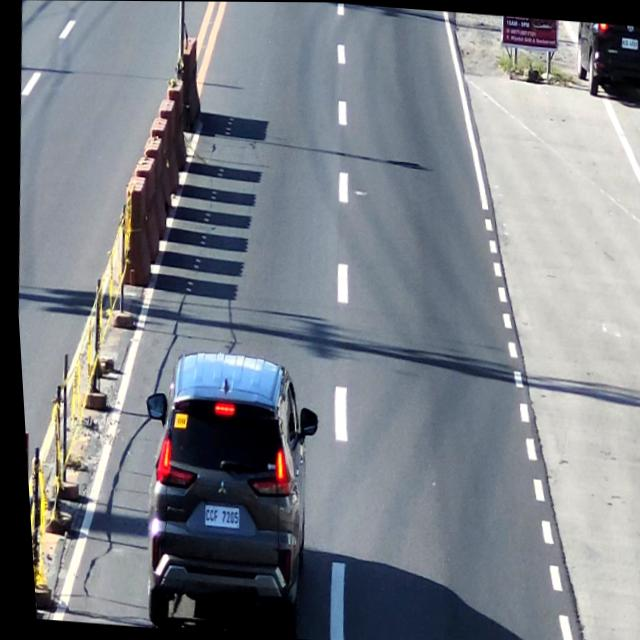Car: (128, 352, 314, 632)
License-Plate: (194, 500, 237, 534)
